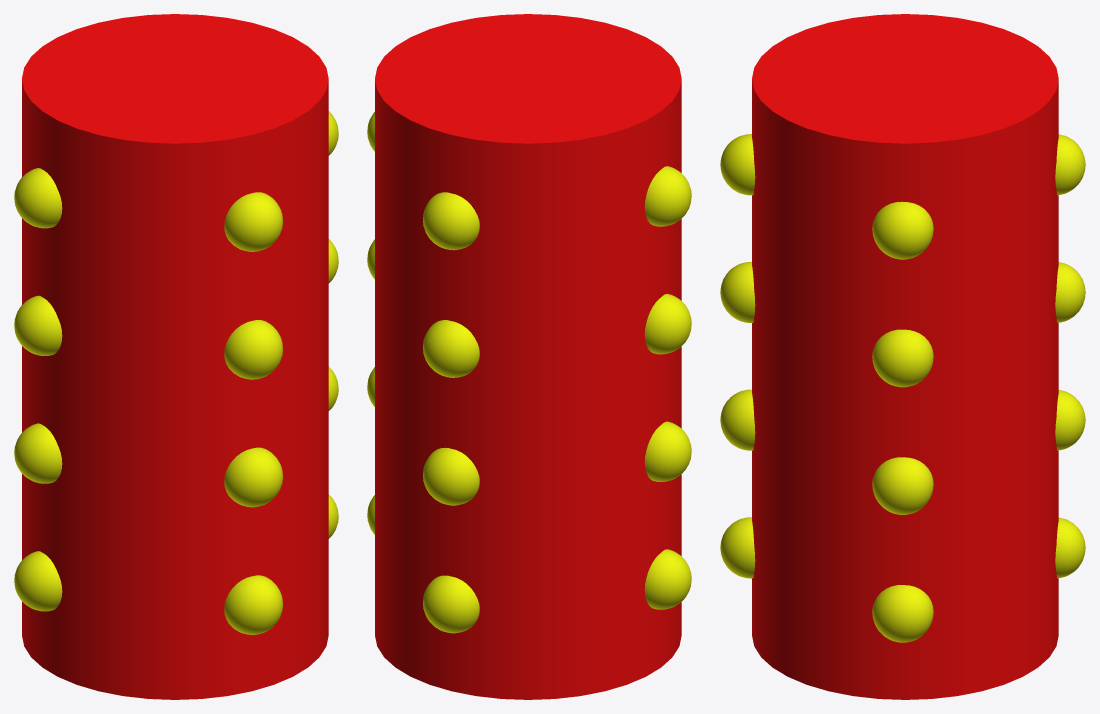
File: silindir.fbx
3 renders of one model, left to right at view 1: azimuth 30°, elevation 25°; view 2: azimuth 150°, elevation 25°; view 3: azimuth 270°, elevation 25°, orthographic.
Visible parts, largest first — view 1: Cylinder001; view 2: Cylinder001; view 3: Cylinder001.
Boxes of the visible parts, bbox=[...] form: Cylinder001: bbox=[14, 14, 338, 699]; Cylinder001: bbox=[367, 14, 691, 699]; Cylinder001: bbox=[720, 14, 1085, 699].
Bounding box in the file's own units: 59.52 × 100 × 59.52.
